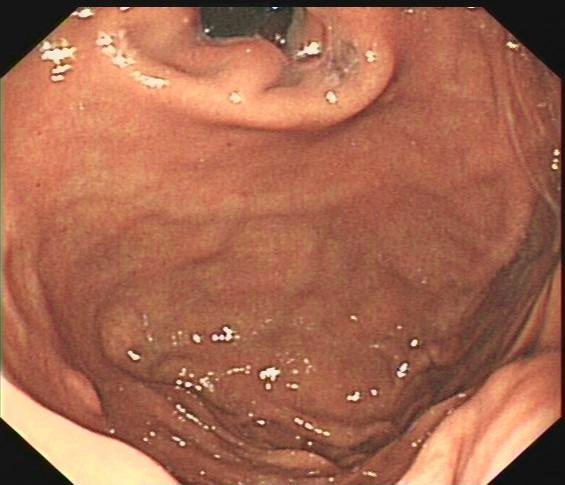Polyp: (55, 360, 111, 421)
